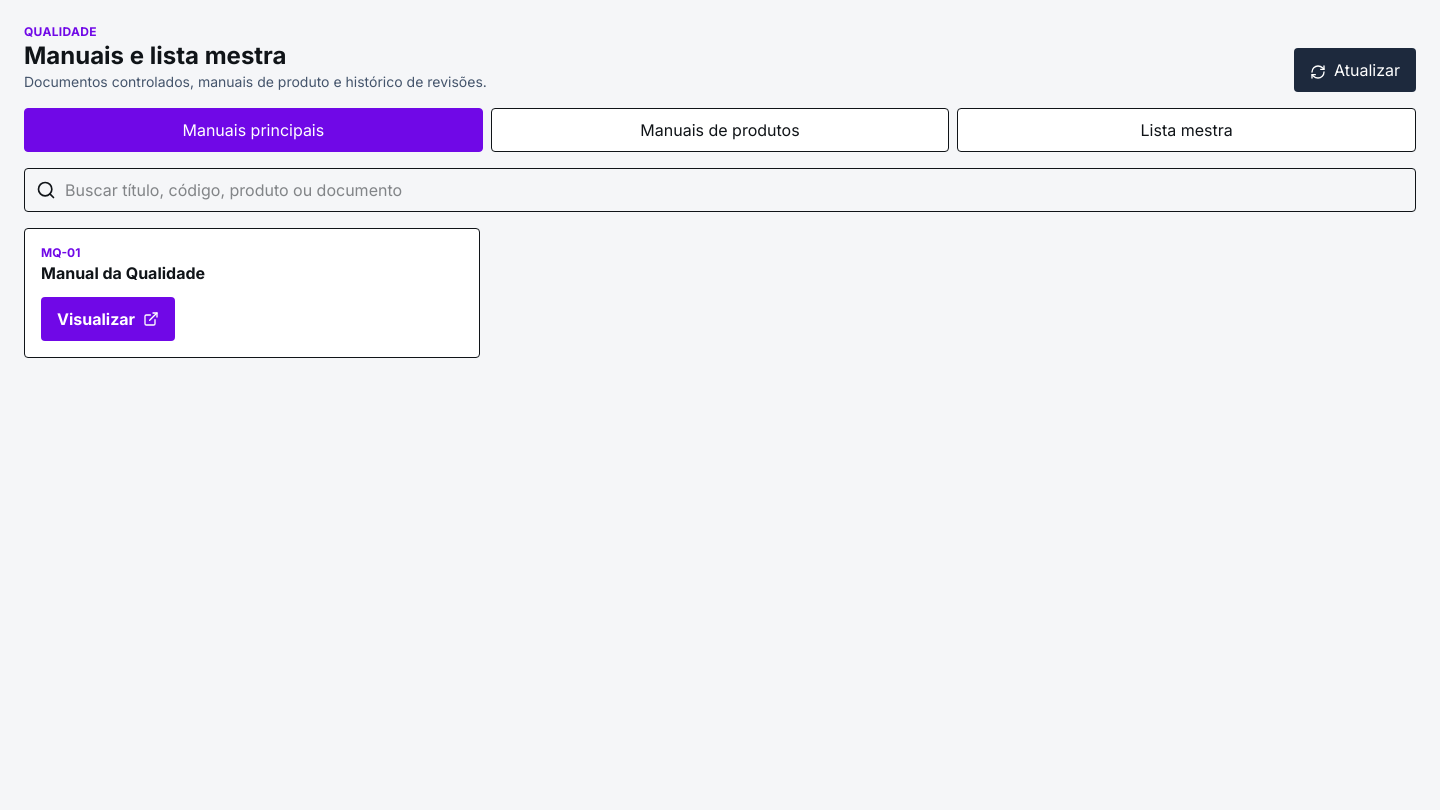
Test: QualityManualsScreen › keeps product mutation controls hidden without permission
Click the button "Manuais de produtos" at coordinates (720, 130), box top-left (491, 108), bottom-right (949, 152)
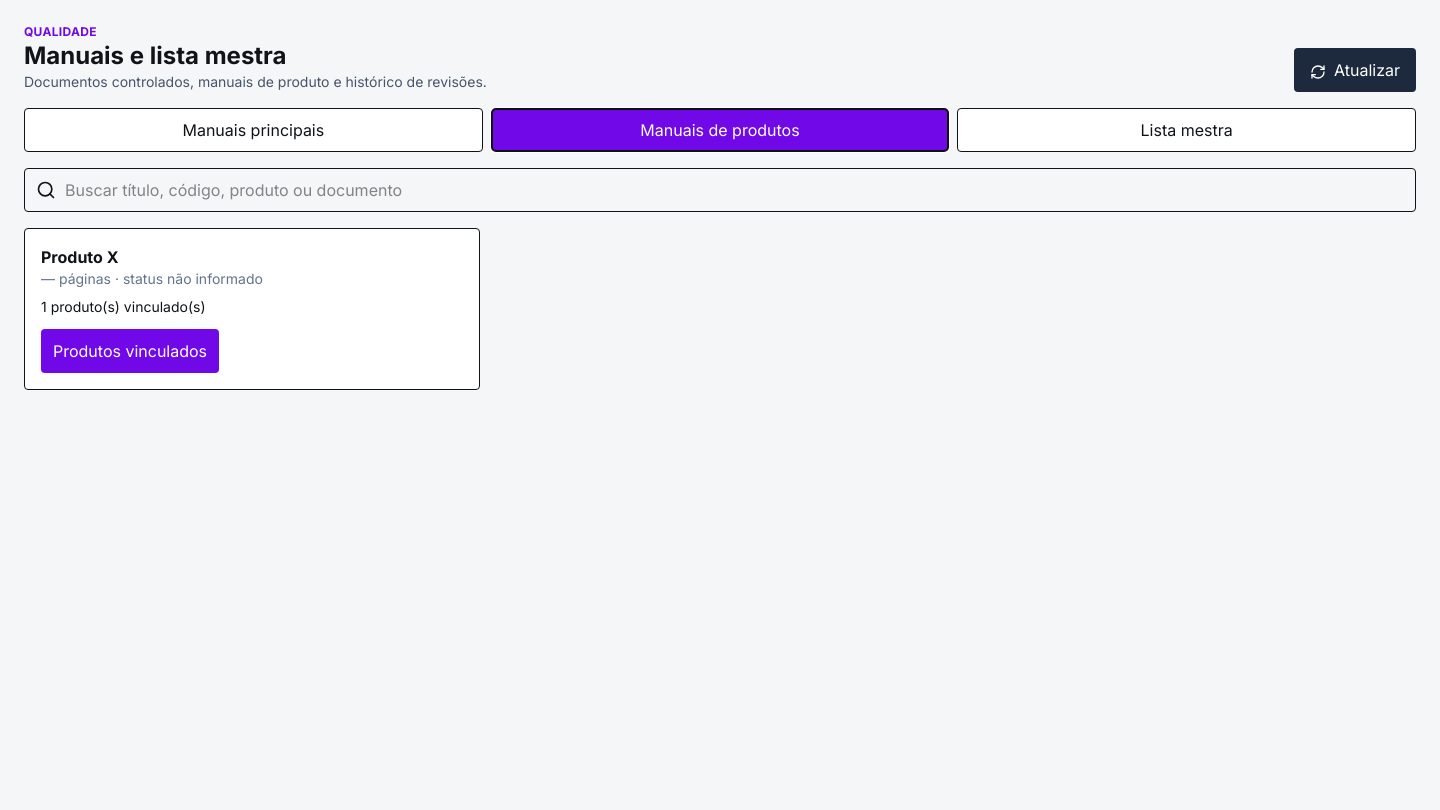
Click the button "Produtos vinculados" at coordinates (130, 351), box top-left (41, 329), bottom-right (219, 373)
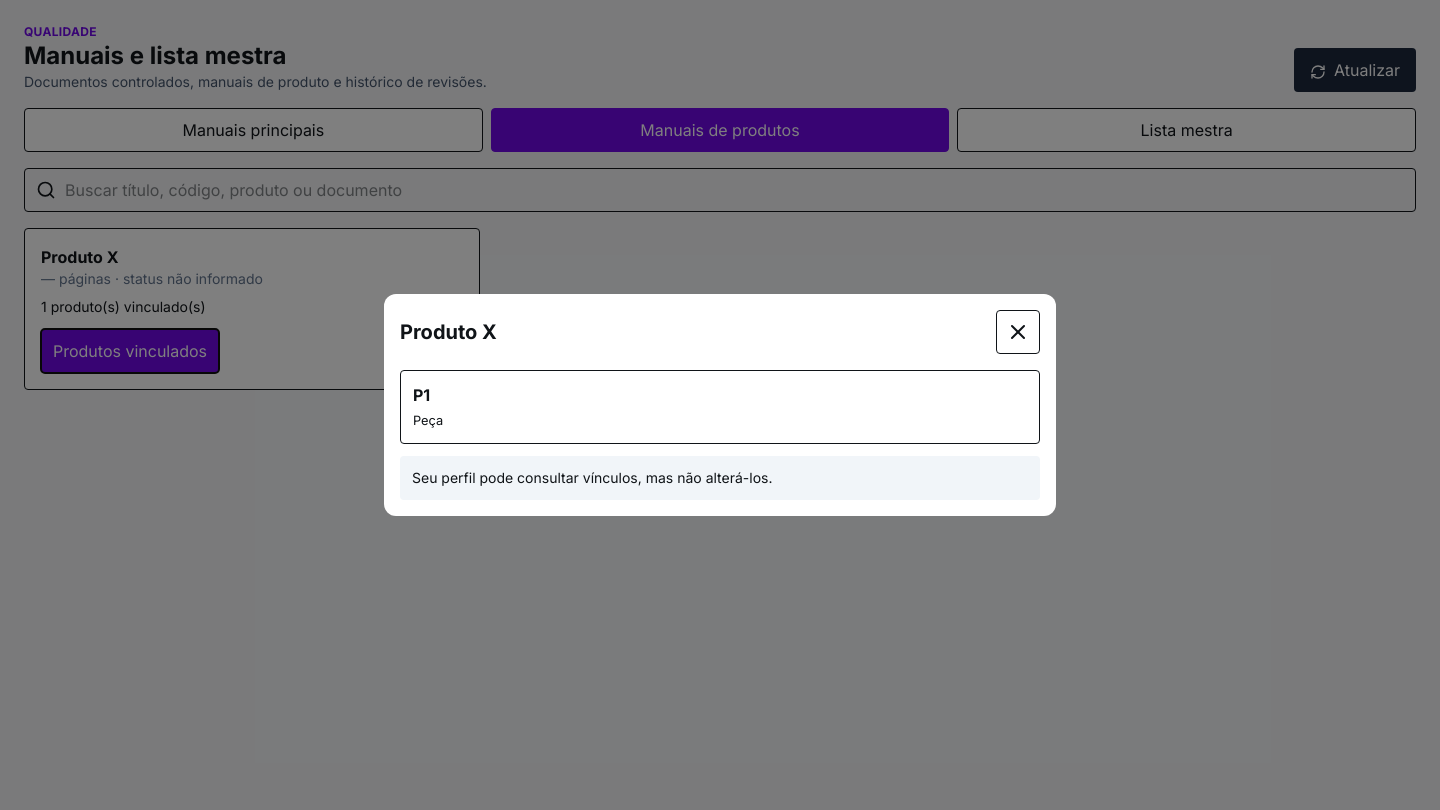
Expected: the text "Seu perfil pode consultar vínculos, mas não alterá-los." is shown, top-left (400, 456), bottom-right (1040, 500)
